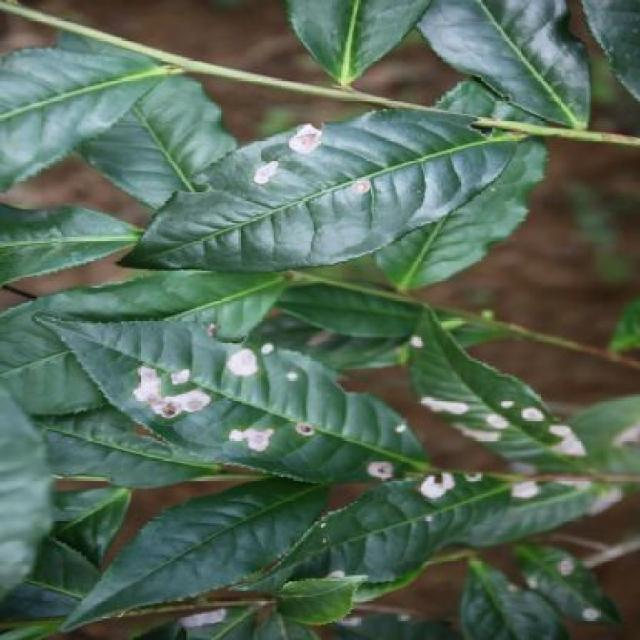Leaf rust of tea: (16, 311, 404, 458), (137, 110, 465, 272), (404, 323, 556, 495)
